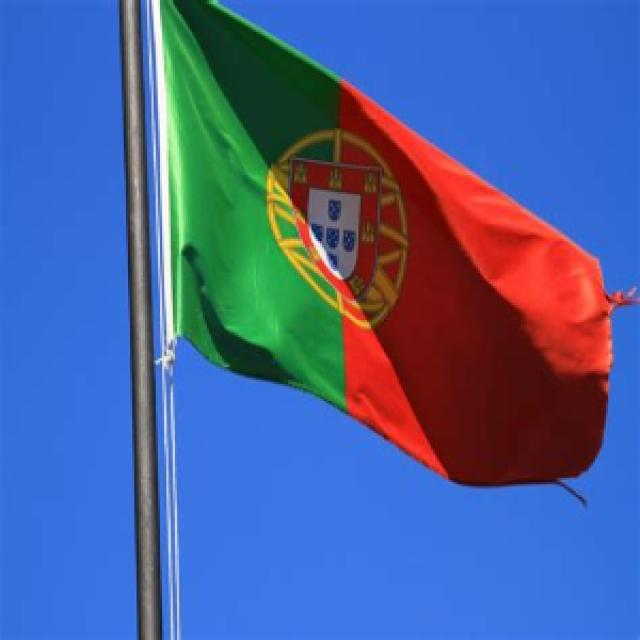portugal: (116, 9, 622, 499)
